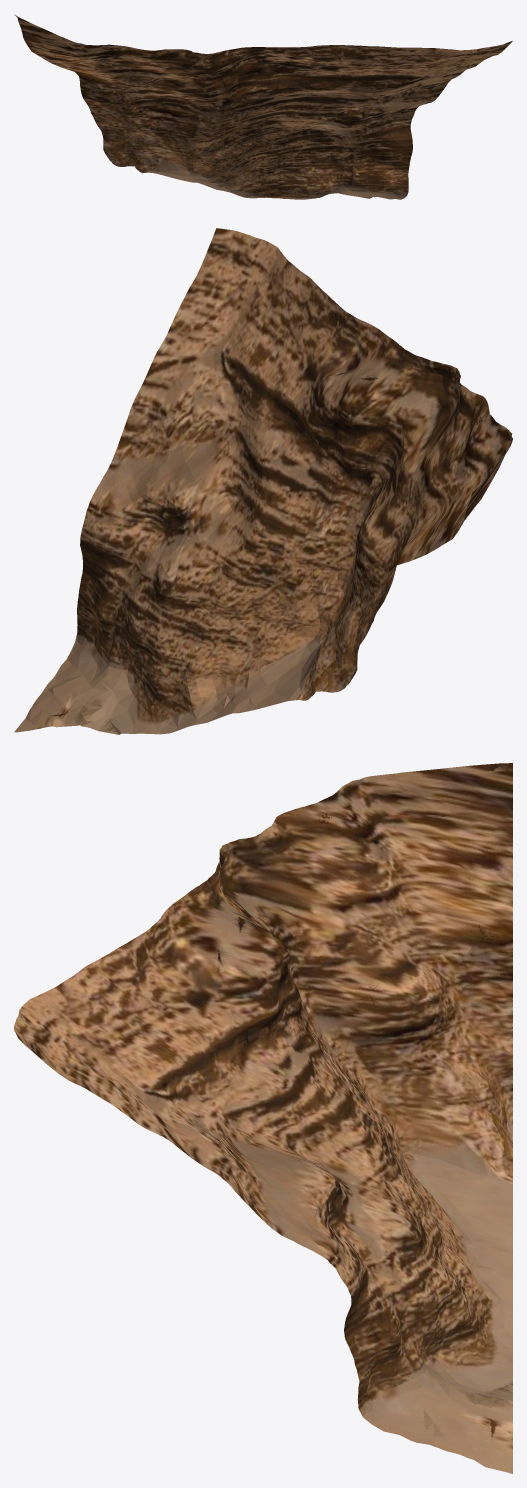
The picture shows the model from 3 angles, top to bottom: view 1: azimuth 30°, elevation 25°; view 2: azimuth 150°, elevation 25°; view 3: azimuth 270°, elevation 25°; orthographic projection. The views are drawn at different scales.
Bounding box in the file's own units: 0.9635 × 0.7091 × 0.7369.
2 materials, 2 textured.
